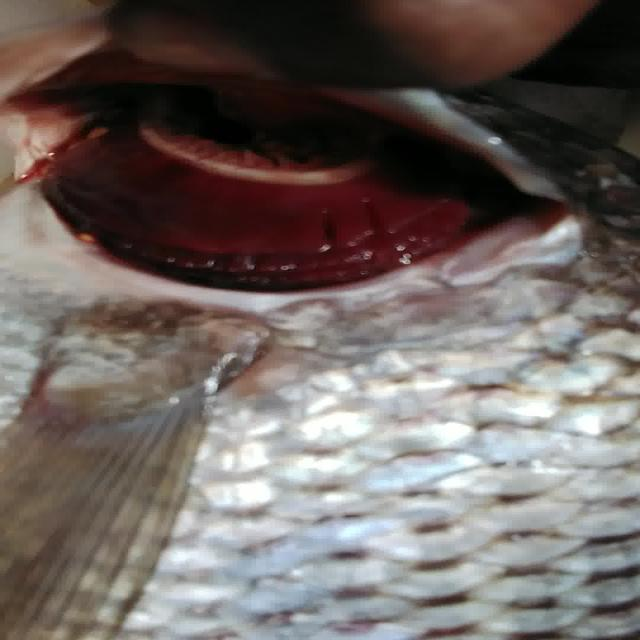Fresh: (34, 73, 547, 357)
